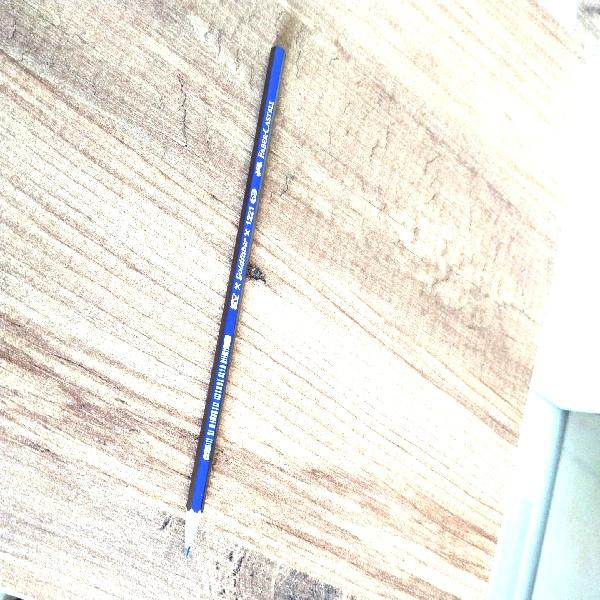pencil: (174, 39, 294, 565)
